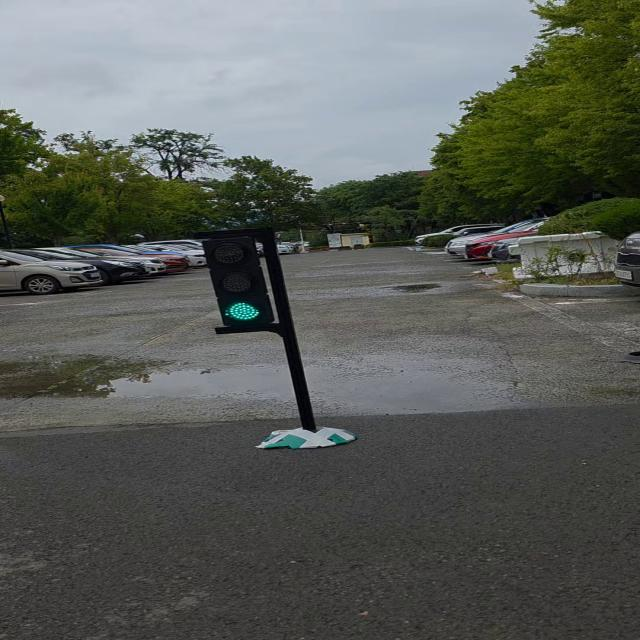green: (200, 233, 287, 335)
